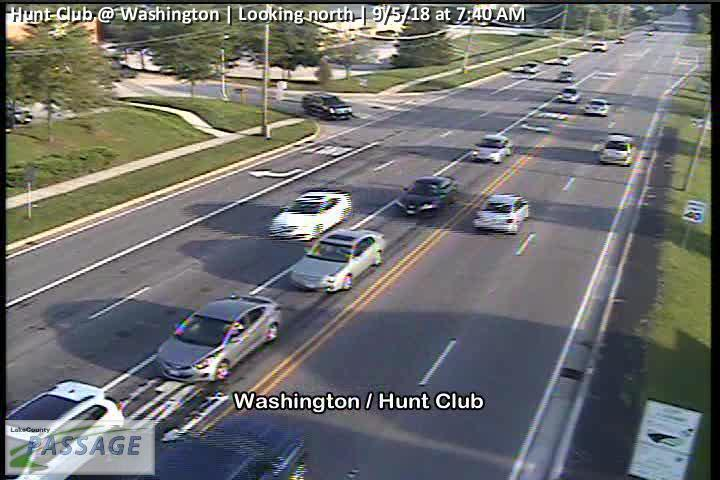SUV: (4, 378, 128, 480), (301, 91, 354, 120)
Sedan: (155, 293, 285, 383), (288, 228, 387, 294), (269, 189, 352, 239), (392, 174, 457, 220), (471, 193, 529, 235), (468, 133, 512, 163), (600, 133, 635, 168), (585, 99, 613, 117), (561, 86, 582, 104)
